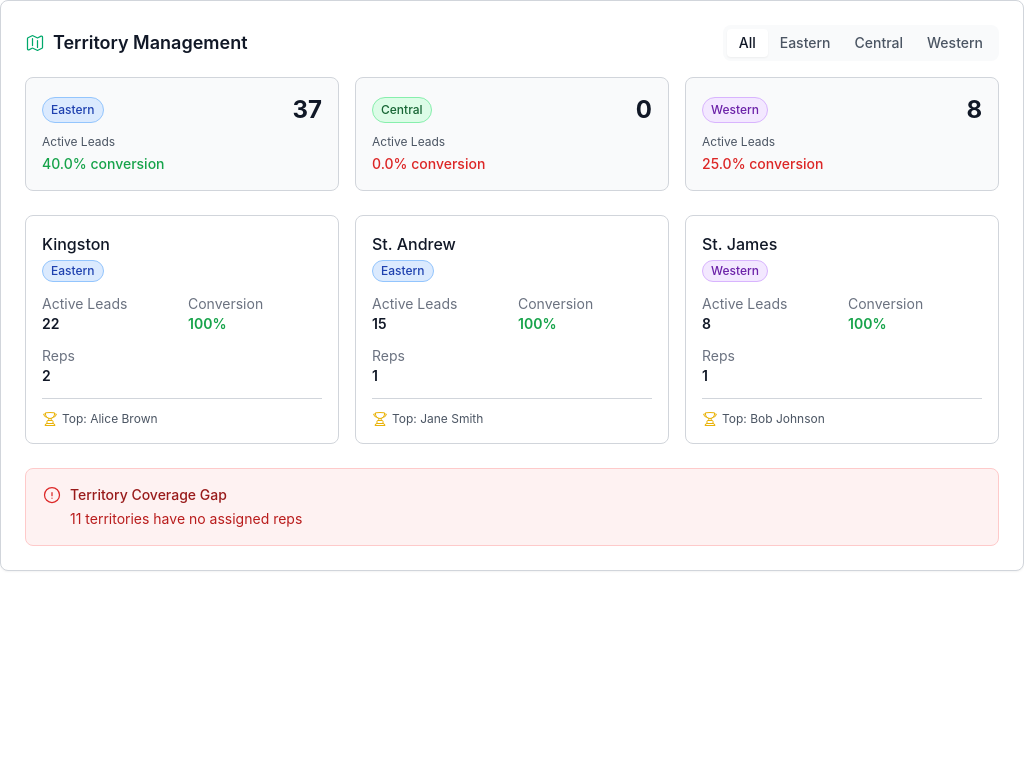
Test: TerritoryDashboard › filters territories by region when clicking region buttons
// Click Eastern region button
Step 1. Click the button "Eastern" → (805, 43), box x1=768 y1=29 x2=842 y2=57
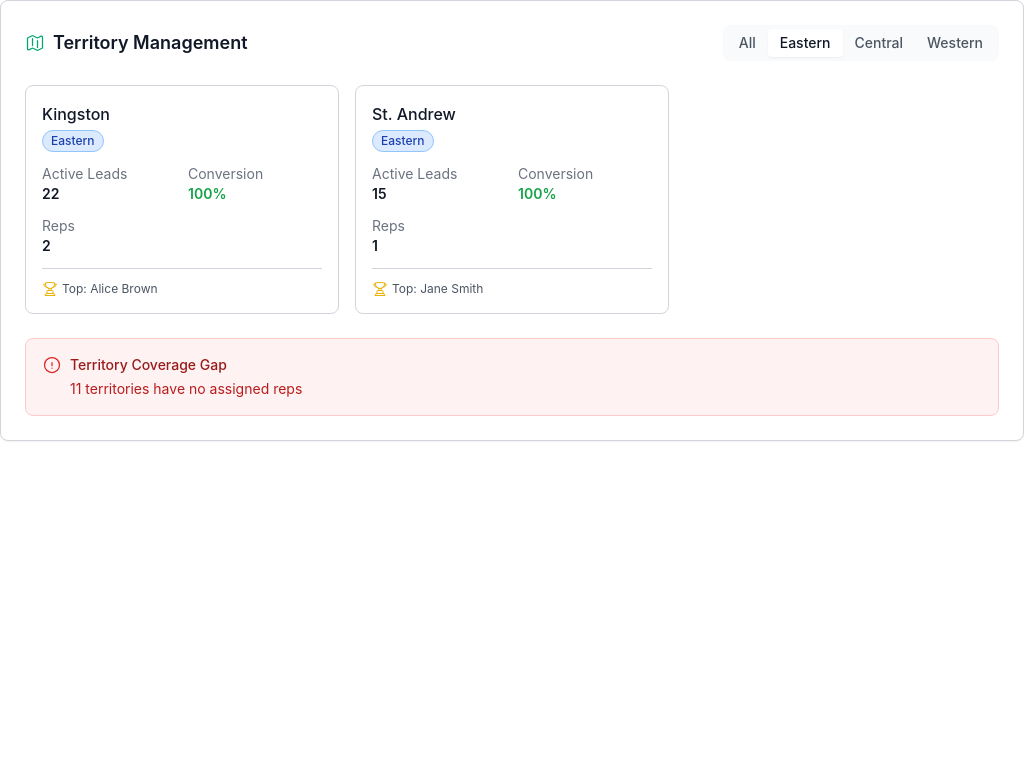
Expected: the heading "Kingston" is shown, x1=42 y1=102 x2=110 y2=126
Now the heading "St. James" no longer shows "St. James"
